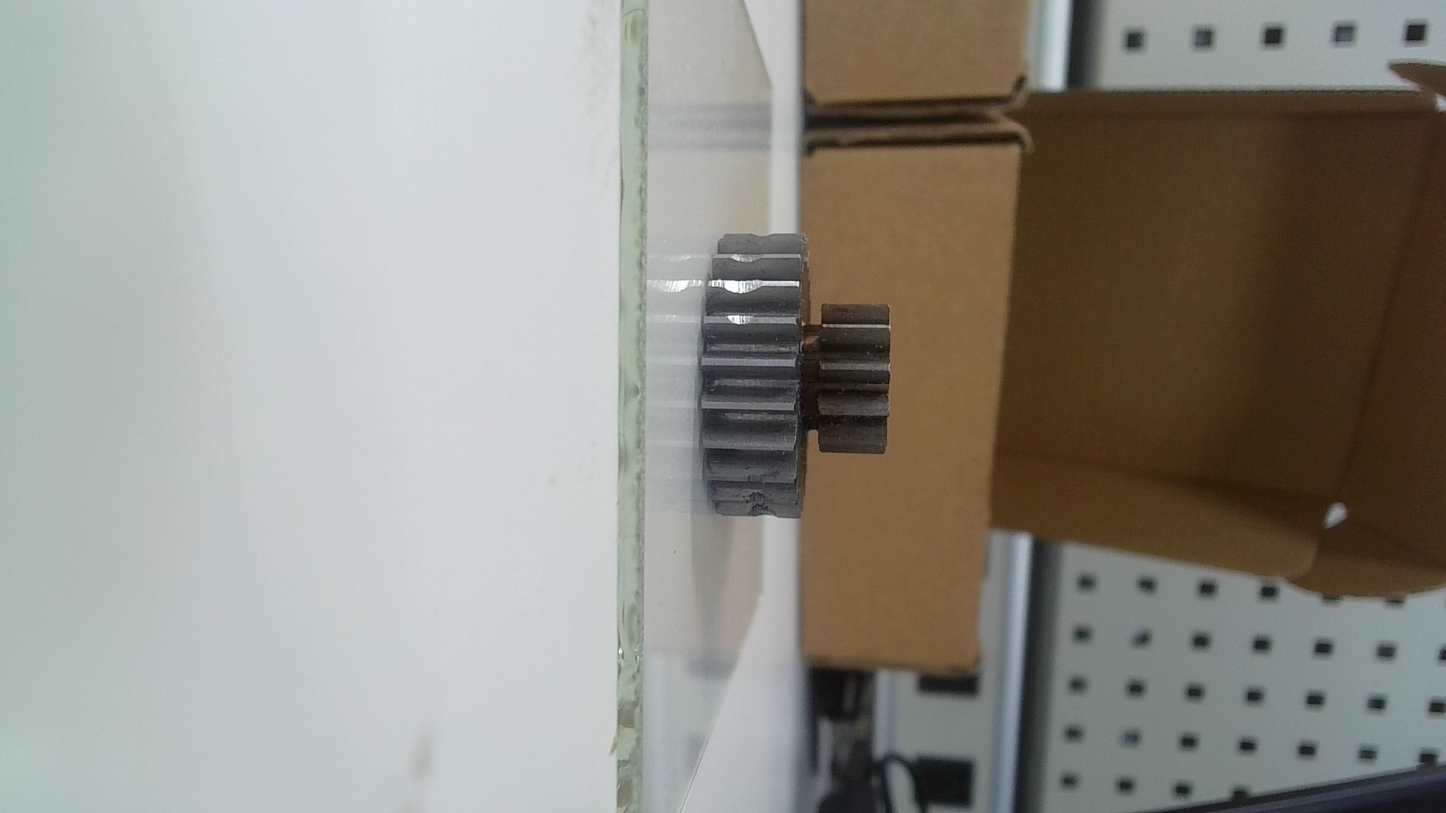gear: (696, 223, 900, 529)
